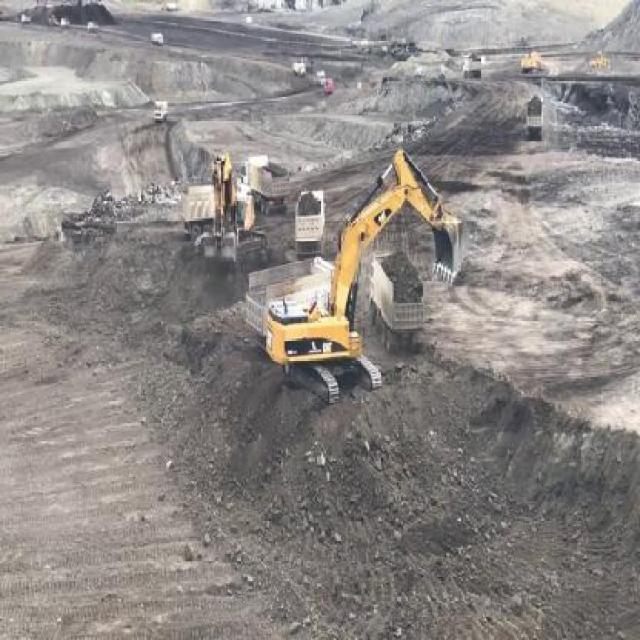dump_truck: (368, 252, 429, 350), (242, 154, 293, 206), (293, 186, 324, 256), (528, 95, 543, 142), (464, 60, 478, 74)
excavator: (257, 144, 469, 408), (204, 146, 267, 269)
